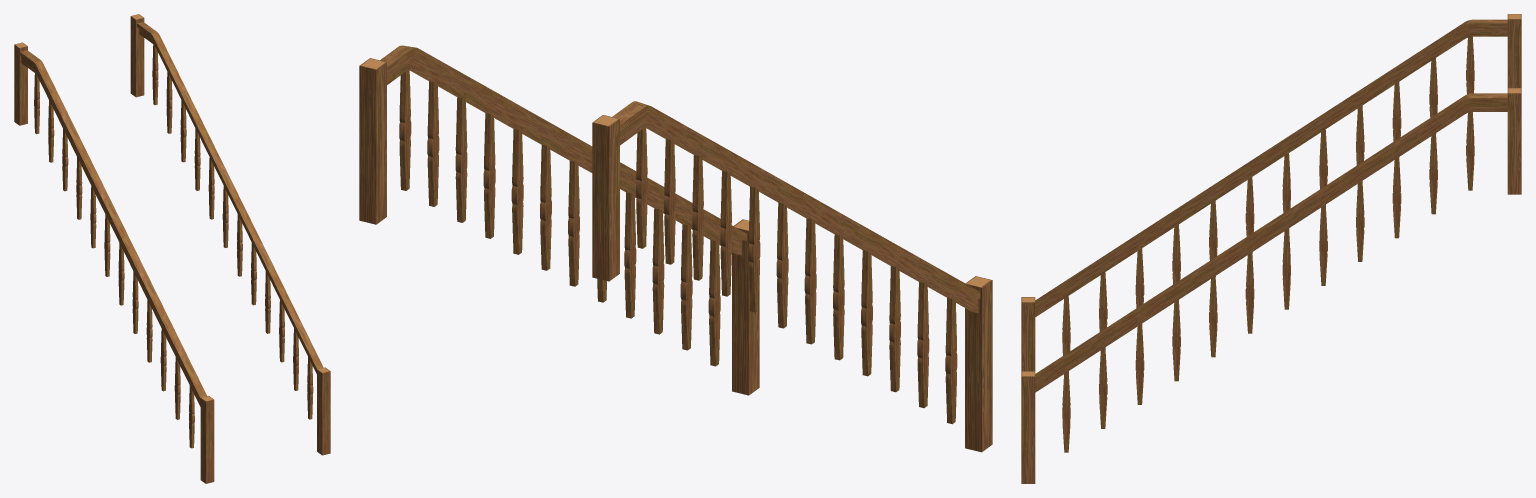
The model's file is Stair_Interior_Rails.gltf.
3 views of the same model, side by side, from view 1: azimuth 30°, elevation 25°; view 2: azimuth 150°, elevation 25°; view 3: azimuth 270°, elevation 25° (orthographic). The views are drawn at different scales.
Visible parts, largest first — view 1: Stair_Interior_Rails; view 2: Stair_Interior_Rails; view 3: Stair_Interior_Rails.
Boxes of the visible parts, box(x1,y1,x2,y2) form: Stair_Interior_Rails: box(14, 14, 330, 483); Stair_Interior_Rails: box(359, 45, 992, 452); Stair_Interior_Rails: box(1021, 14, 1521, 483).
Bounding box in the file's own units: 1.72 × 3.93 × 4.56.
Materials: 1 (1 with a texture image).
